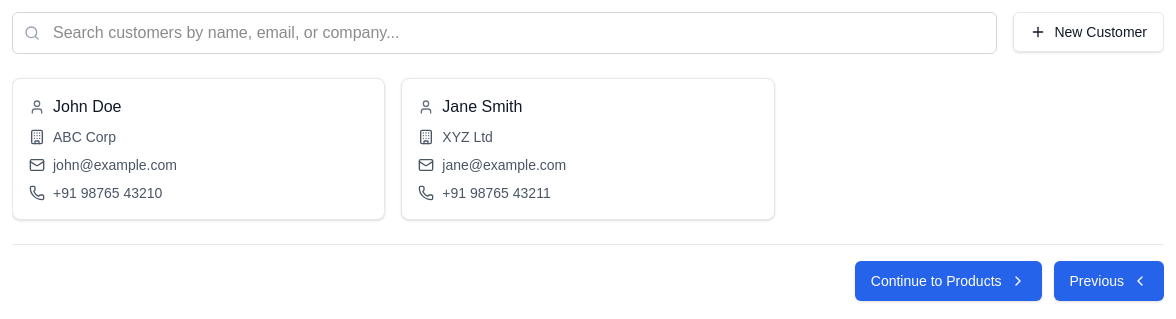
Test case: CustomerSelectionStep › filters customers based on search query
Type "John" into the field with placeholder "Search customers by name, email, or company...". click: (505,33)
box: [12, 12, 997, 54]
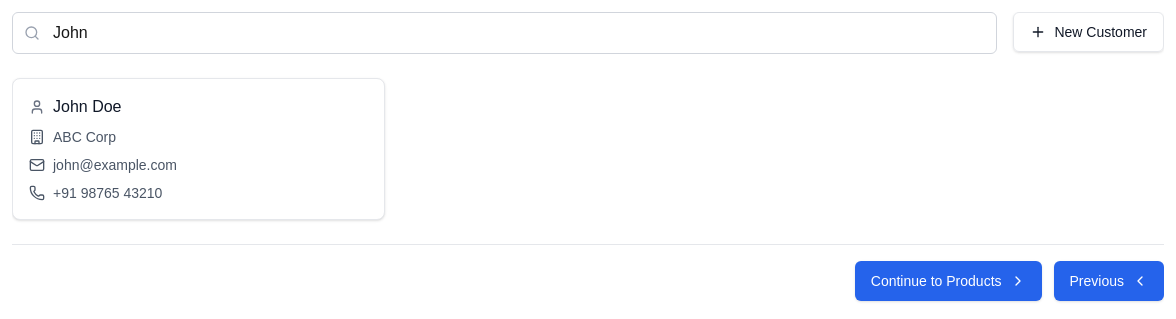
expect the text "John Doe" is shown: met, box [53, 95, 122, 119]
expect the text "Jane Smith" is gone: met
